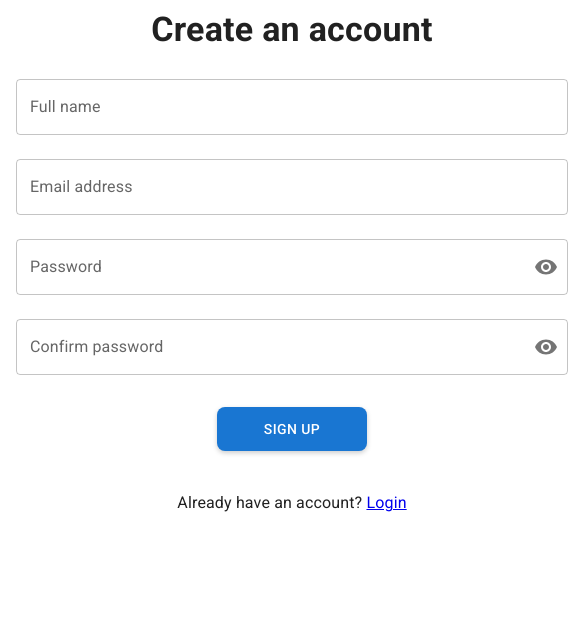
Test: Signup Component › validates form inputs
The width and height of the screenshot is (585, 621).
Step 1. Click the button "Sign up" → (292, 429), box [217, 407, 367, 451]
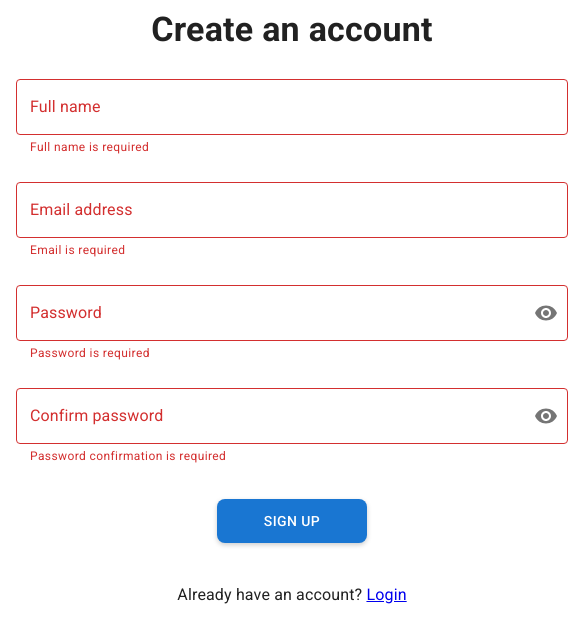
Expected: the text "Full name is required" is shown, [30, 140, 149, 154]
Expected: the text "Email is required" is shown, [30, 243, 125, 257]
Expected: the text "Password is required" is shown, [30, 346, 150, 360]
